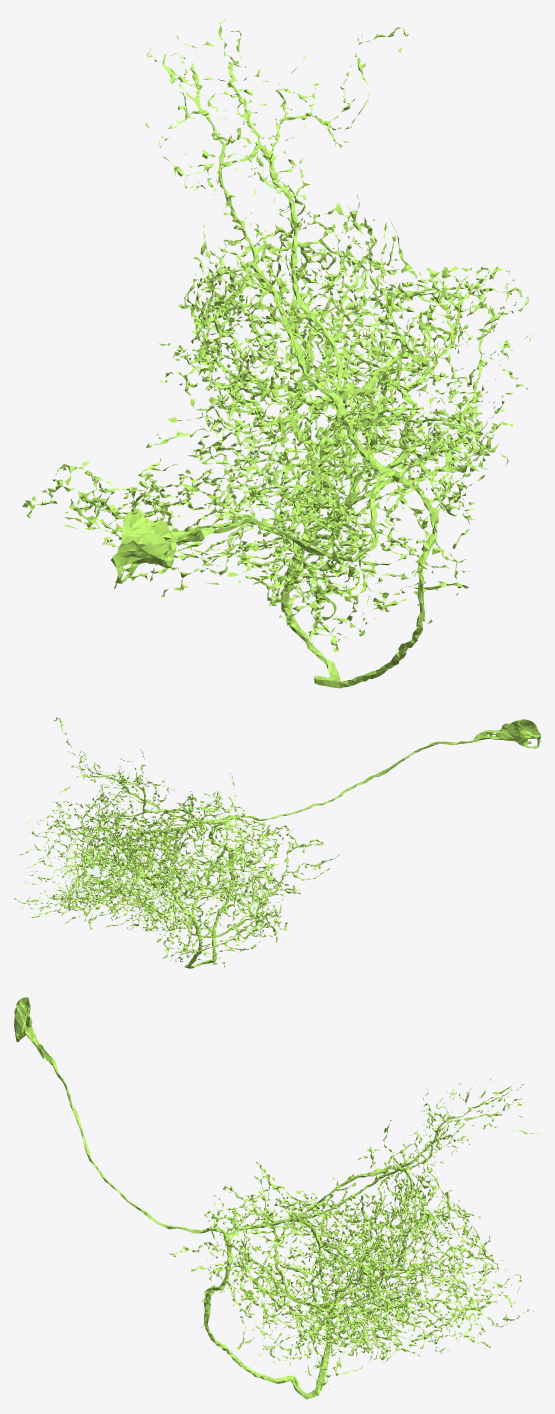
Rendered from VFB_jrchk45q.glb.
The picture shows the model from 3 angles, top to bottom: view 1: azimuth 30°, elevation 25°; view 2: azimuth 150°, elevation 25°; view 3: azimuth 270°, elevation 25°; orthographic projection. The views are drawn at different scales.
Parts seen in each view (by area): view 1: VFB_jrchk45q; view 2: VFB_jrchk45q; view 3: VFB_jrchk45q.
Boxes of the visible parts, left/top/right/bottom form: VFB_jrchk45q: left=22, top=19, right=532, bottom=688; VFB_jrchk45q: left=14, top=717, right=540, bottom=968; VFB_jrchk45q: left=14, top=997, right=540, bottom=1399.
Size of the model in its own units: 0.1066 by 0.0768 by 0.1111.
